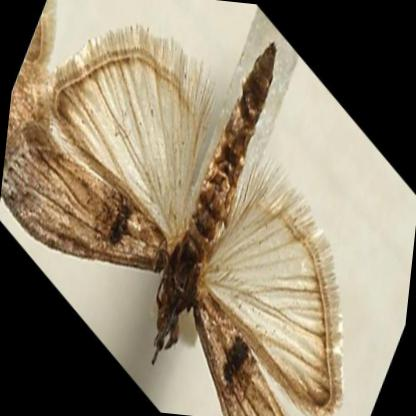Leaf Webber: (4, 29, 342, 416)
